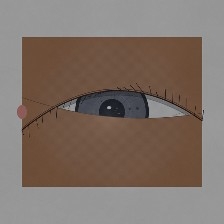pinguecula_lesion: (36, 95, 81, 131)
